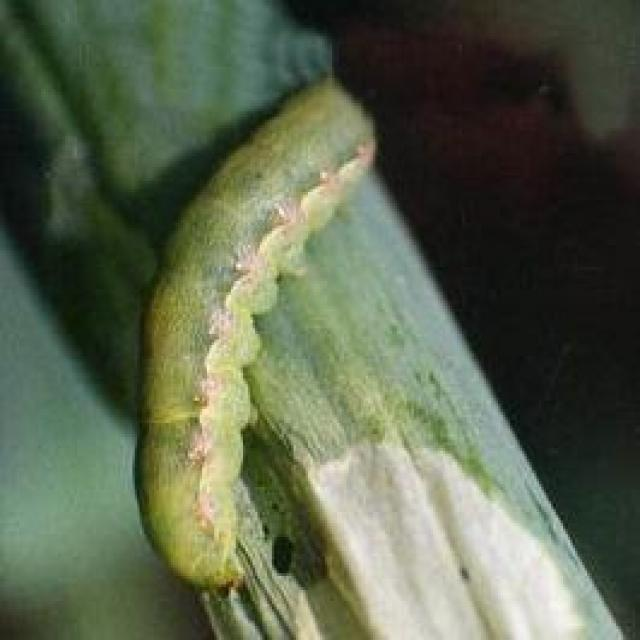BeetArmyWorm-Larva-: (122, 72, 388, 597)
